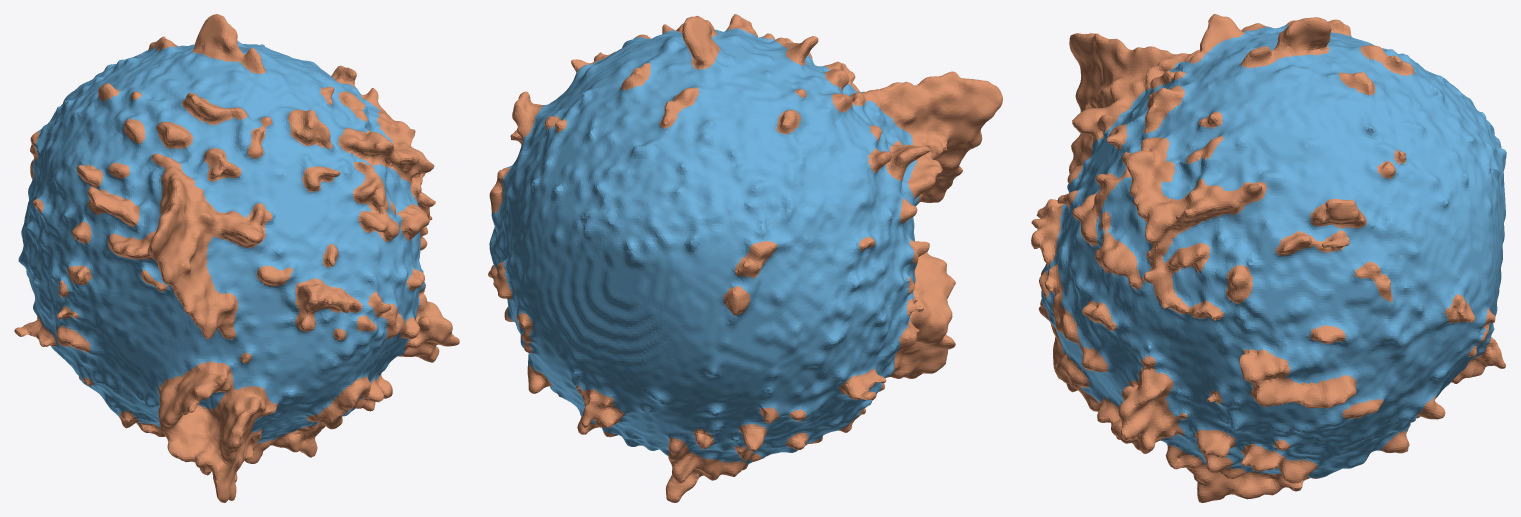
3 views of the same model, side by side, from view 1: azimuth 30°, elevation 25°; view 2: azimuth 150°, elevation 25°; view 3: azimuth 270°, elevation 25° (orthographic). The views are drawn at different scales.
Bounding box in the file's own units: 141 × 151 × 140.
